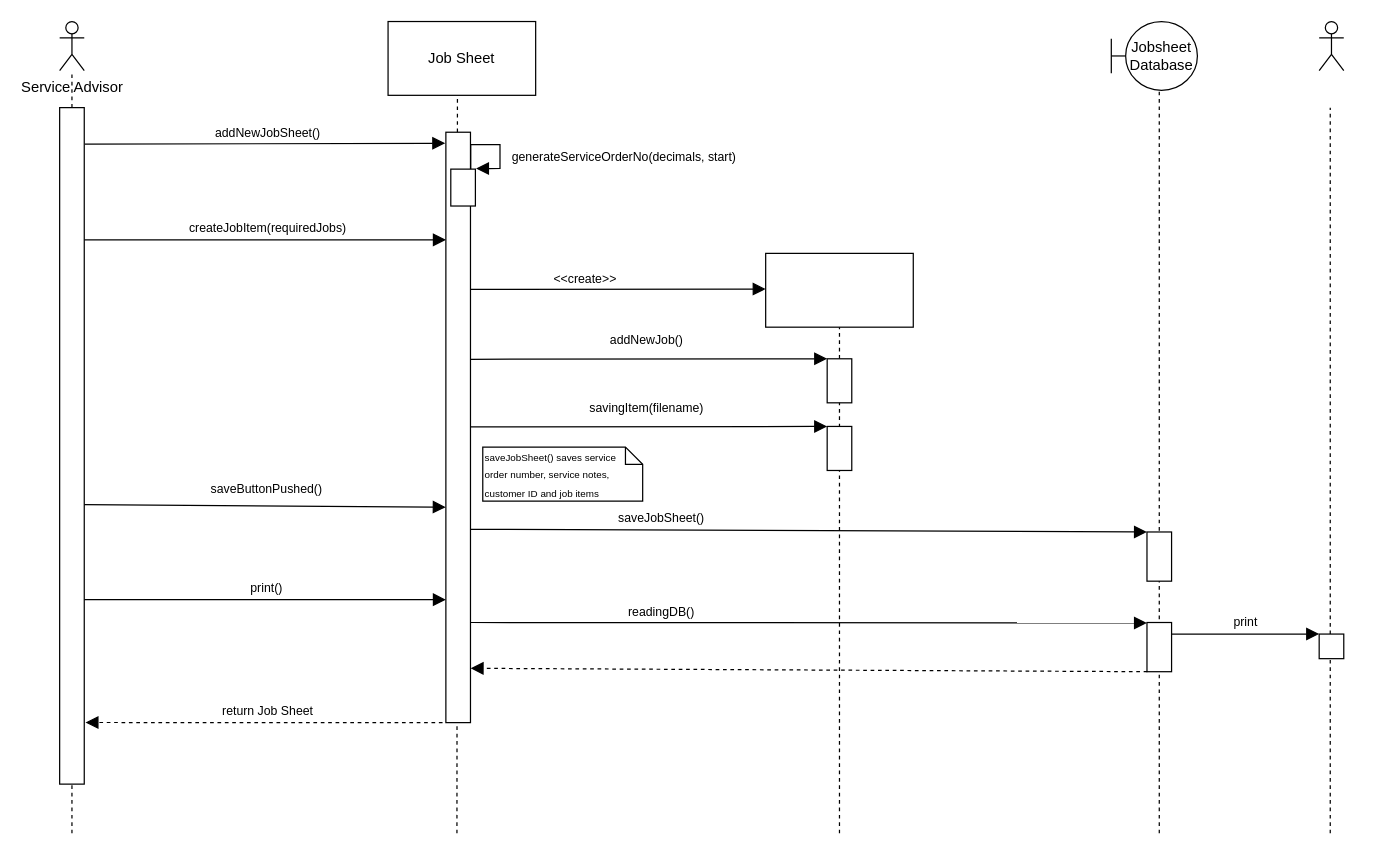
The diagram is 1394 pixels wide and 856 high, and some of its shapes have lost their labels. Each missing label, with the centre of its shape:
: Job Item: (x=838, y=289)
<<system>> Printer: (x=1331, y=45)
